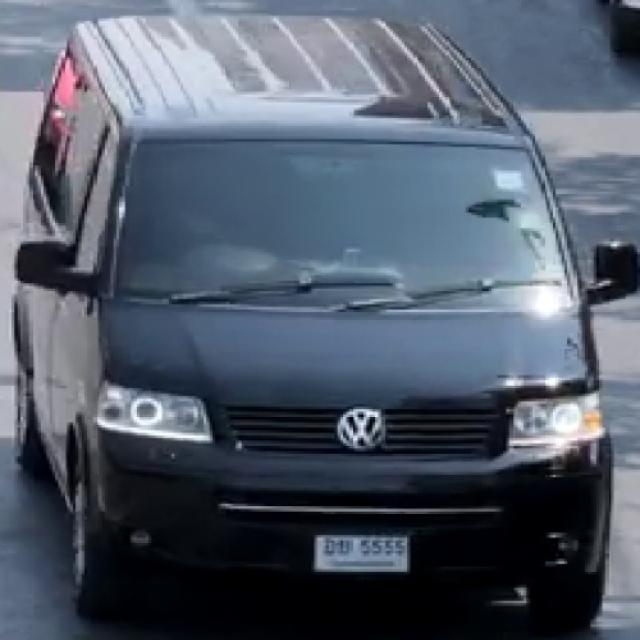plate: (316, 532, 412, 572)
